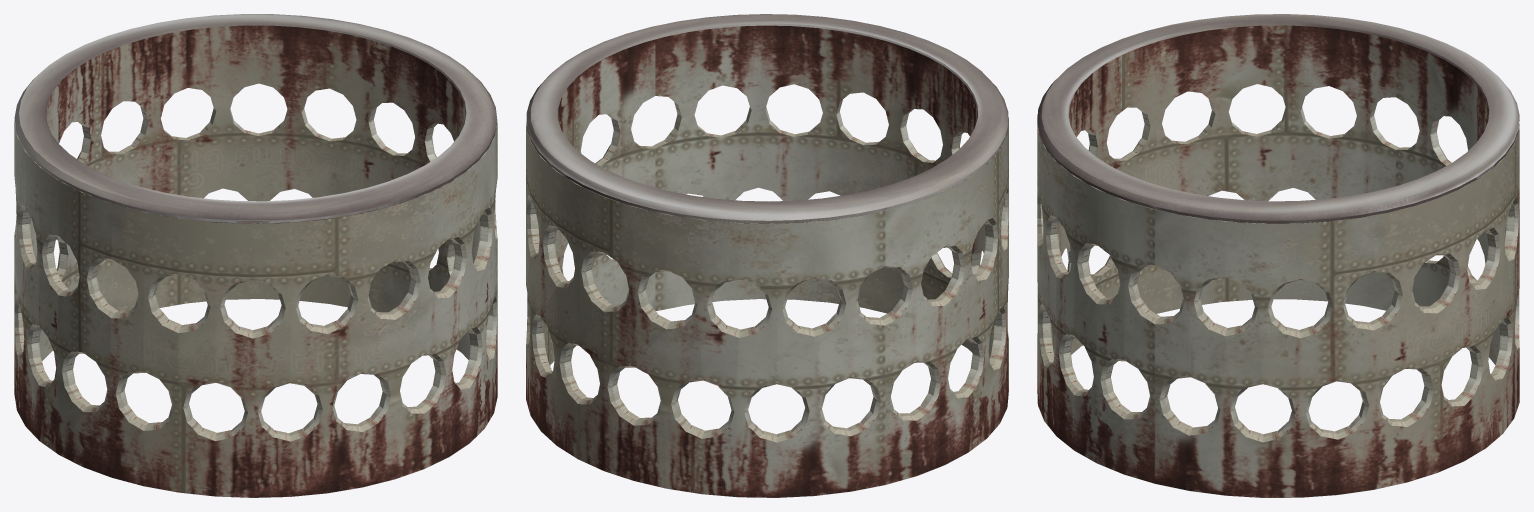
The model's file is static2.fbx.
3 views of the same model, side by side, from view 1: azimuth 30°, elevation 25°; view 2: azimuth 150°, elevation 25°; view 3: azimuth 270°, elevation 25° (orthographic).
Parts seen in each view (by area): view 1: STATIC2; view 2: STATIC2; view 3: STATIC2.
Part boxes in pixels (<box>): STATIC2: <box>14,14,497,497</box>; STATIC2: <box>526,14,1008,497</box>; STATIC2: <box>1037,14,1519,497</box>.
Bounding box in the file's own units: 232 × 150 × 232.
Materials: 2 (2 with a texture image).
